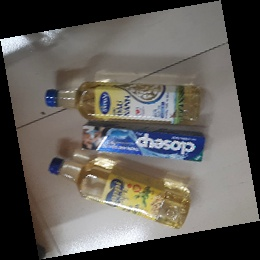CloseUp Tuyet: (78, 121, 207, 165)
Happy Soya: (47, 156, 192, 230)
Simply: (43, 82, 203, 127)
